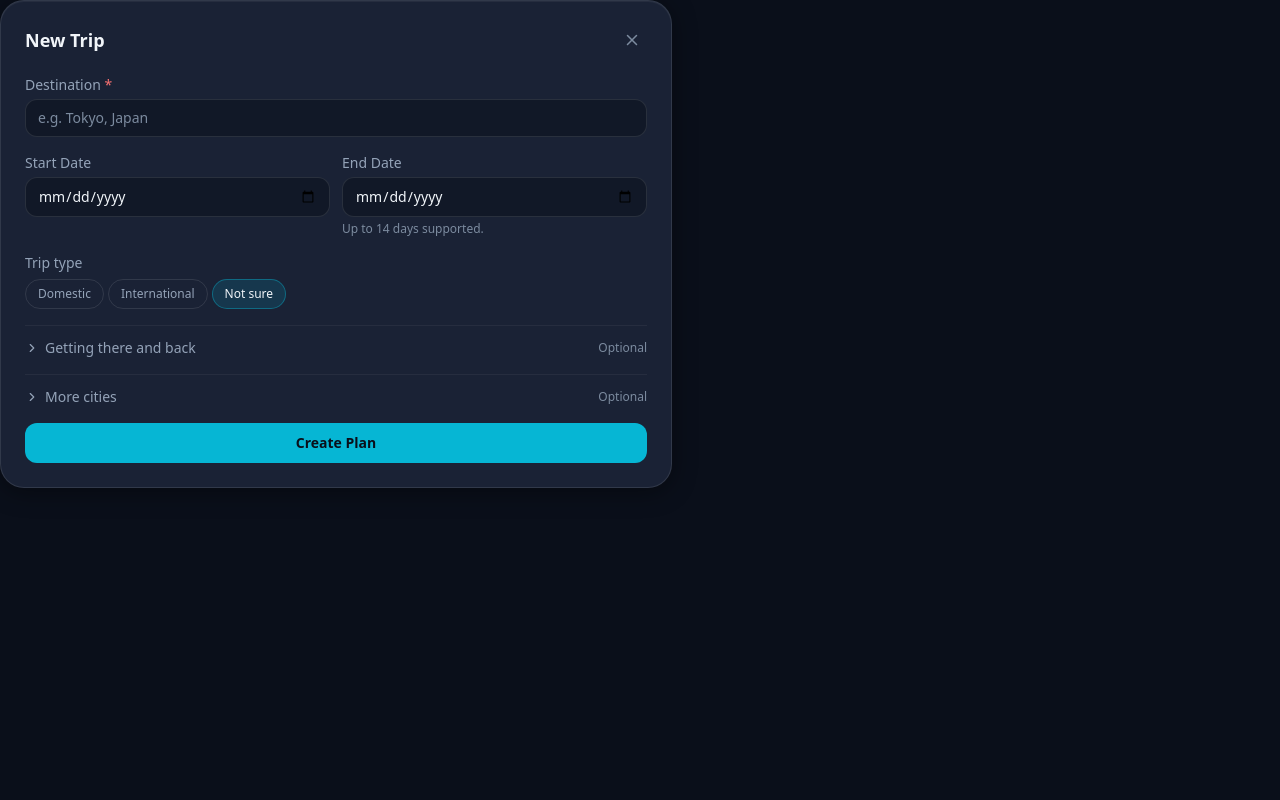
Test: NewPlanModal › destination validation › rejects 12345 and creates no plan
In the dropdown with test id "destination-input": [336, 118] box [25, 99, 647, 137], type "12345"
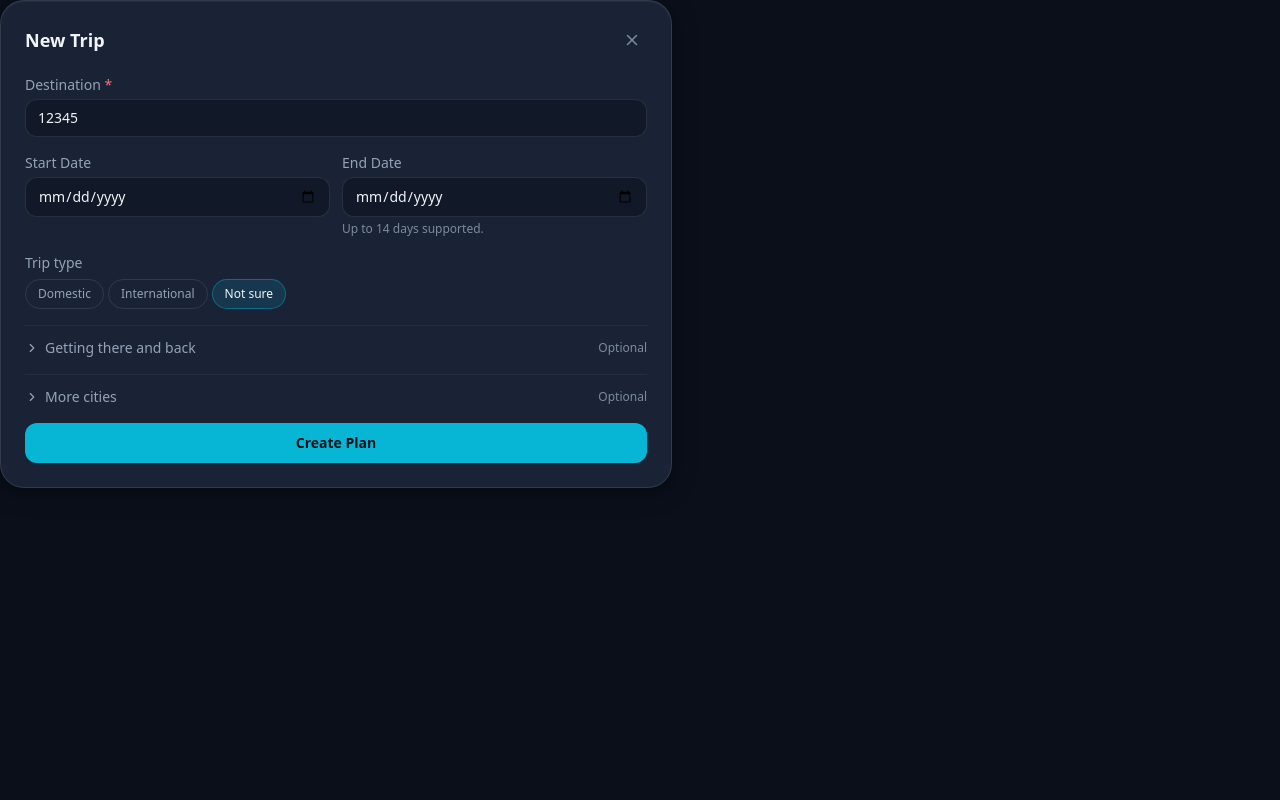
Click the button with test id "create-plan-btn": [336, 443] box [25, 423, 647, 463]
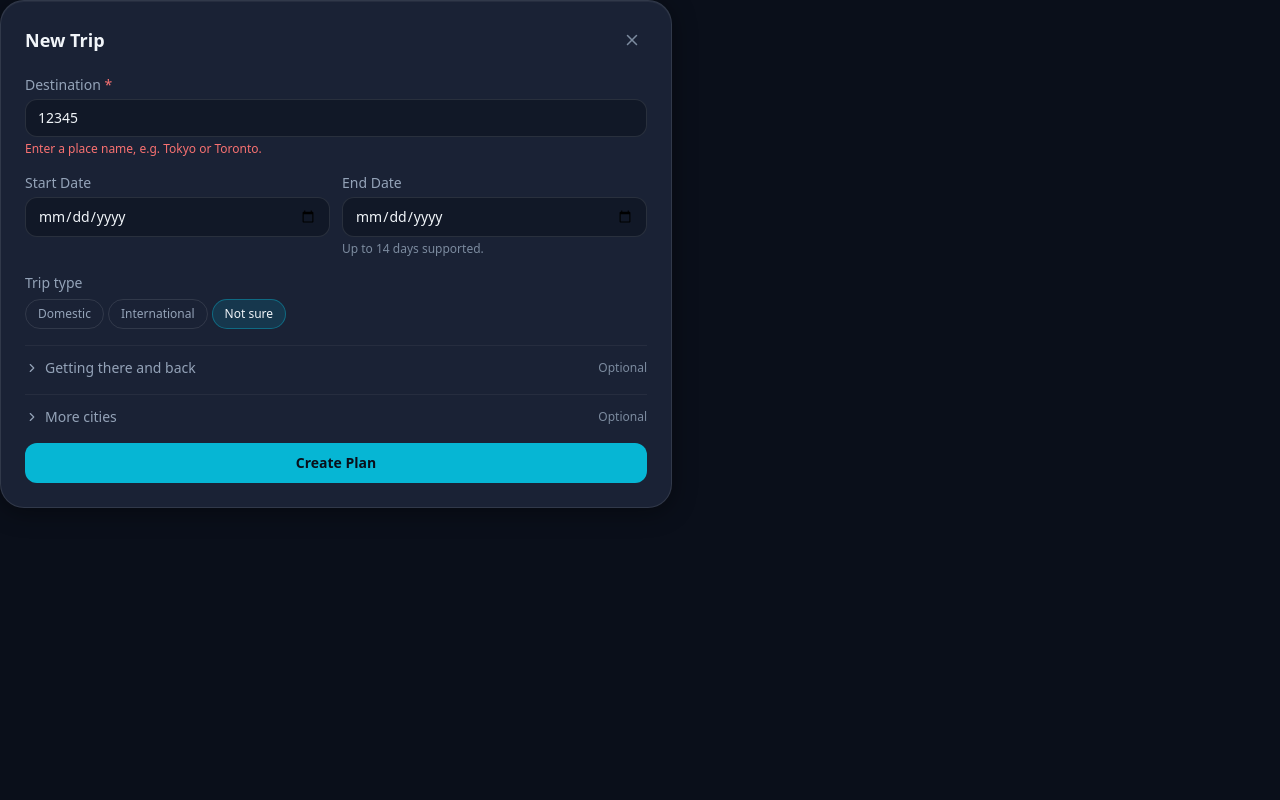
Result: the text "Enter a place name, e.g. Tokyo or Toronto." is shown at [25, 140, 262, 157]
